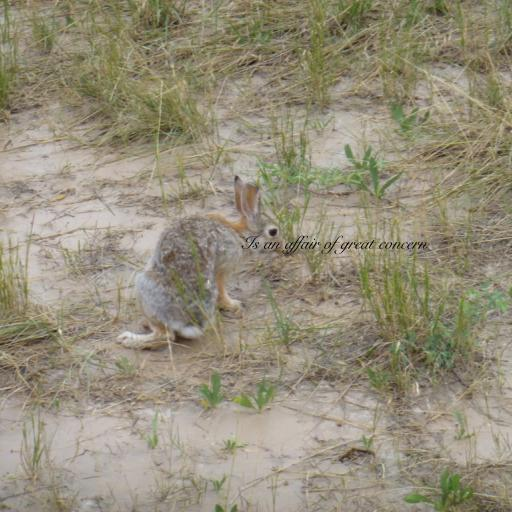Snell Roundhand: (241, 235, 427, 255)
